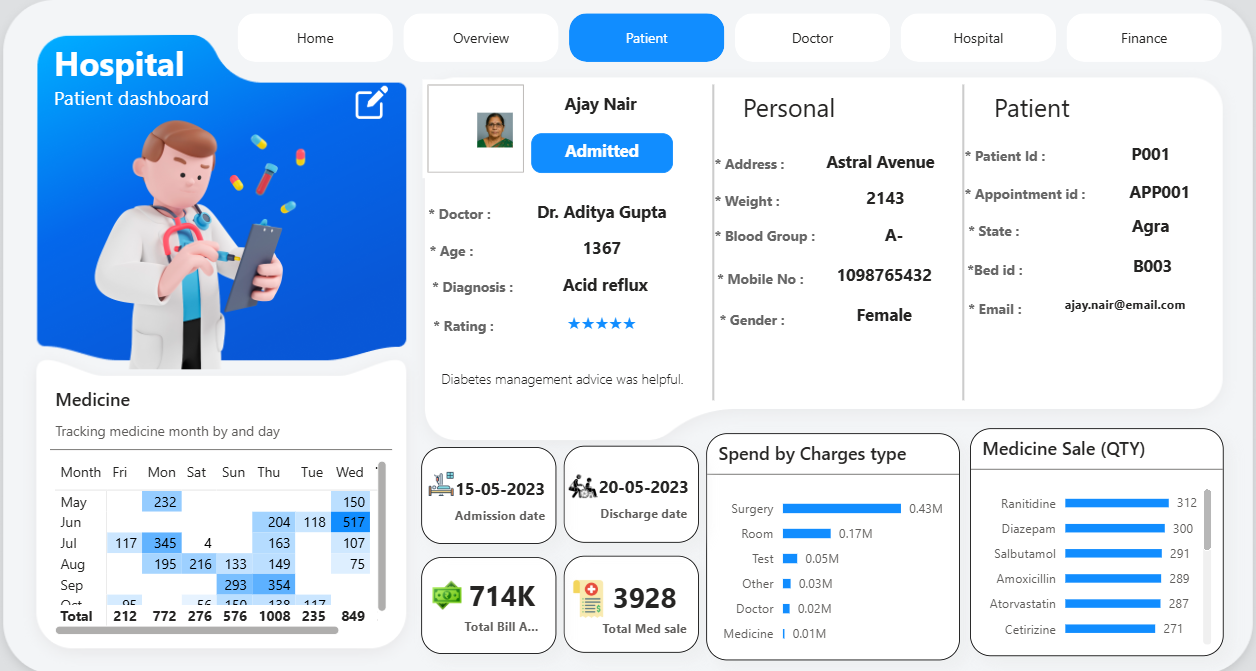

The dashboard page shown, as its layout file describes it:
{"tool":"powerbi","page":{"name":"Patient","canvas":[1280,720],"ordinal":2},"visuals":[{"type":"shape","box":[577.4,567.8,130.4,93.8],"z":0},{"type":"shape","box":[440.9,569.4,130,93.3],"z":1000},{"type":"image","box":[90.7,128.5,279.7,264.6],"z":2000},{"type":"textbox","box":[81.3,66.1,360.9,85],"z":3000},{"type":"image","box":[342,109.6,100.2,41.6],"z":4000},{"type":"pivotTable","title":"Medicine","fields":{"Rows":["Calender.Month"],"Columns":["Calender.Day"],"Values":["Sum(medicine_patient.qty)"]},"box":[81.7,405,330,243.3],"z":5000},{"type":"clusteredBarChart","title":"Spend by Charges type","fields":{"Y":["Sum(Hospital Bills.Value)"],"Category":["Hospital Bills.Attribute"]},"box":[715.8,450.1,245,219.5],"z":6000},{"type":"clusteredBarChart","title":"Medicine Sale (QTY)","fields":{"Y":["Sum(medicine_patient.qty)"],"Category":["Medical Stock.name"]},"box":[970.6,445,245,220],"z":7000},{"type":"card","fields":{"Values":["_Measures.Total_bill_Ammount"]},"box":[475.6,575.8,85.9,81.1],"z":8000},{"type":"card","fields":{"Values":["_Measures.Total_Med_Sale"]},"box":[604.4,571,103.4,93.8],"z":9000},{"type":"shape","box":[577.8,461.9,130,93.3],"z":10000},{"type":"shape","box":[440.9,462.7,130,93.3],"z":11000},{"type":"card","fields":{"Values":["Min(patient.admission_date)"]},"box":[461.3,467.6,111.3,92.3],"z":12000},{"type":"card","fields":{"Values":["Min(patient.discharge_date)"]},"box":[604.4,466,101.8,92.3],"z":13000},{"type":"cardVisual","fields":{"Data":["Min(patient.Img)"]},"box":[441.7,108.3,103.3,95],"z":14000},{"type":"card","fields":{"Values":["Min(patient.name)"]},"box":[545,115,136.7,38.3],"z":15000},{"type":"card","fields":{"Values":["Min(patient.status)"]},"box":[546.7,160,136.7,38.3],"z":16000},{"type":"shape","box":[445,221.7,85,30],"z":17000},{"type":"shape","box":[446.7,258.3,85,30],"z":18000},{"type":"shape","box":[448.3,293.3,85,30],"z":19000},{"type":"card","fields":{"Values":["Min(patient.Doctor.name)"]},"box":[540,223.3,148.3,30],"z":20000},{"type":"card","fields":{"Values":["Sum(patient.age)"]},"box":[540,258.3,148.3,30],"z":21000},{"type":"card","fields":{"Values":["Min(Appointment.diagnosis)"]},"box":[538.3,293.3,160,31.7],"z":22000},{"type":"card","fields":{"Values":["_Measures.Sum of rating star rating"]},"box":[540,330,148.3,30],"z":23000},{"type":"shape","box":[450,330,85,30],"z":24000},{"type":"card","fields":{"Values":["Min(patient.feedback)"]},"box":[447,367.4,260.9,63.6],"z":25000},{"type":"shape","box":[688.3,113.3,66.7,305],"z":26000},{"type":"shape","box":[930,113.3,66.7,305],"z":27000},{"type":"shape","box":[721.3,174.1,85,30],"z":28000},{"type":"shape","box":[721.3,209.5,85,30],"z":29000},{"type":"shape","box":[721.7,245,110,28.3],"z":30000},{"type":"card","fields":{"Values":["Min(patient.address)"]},"box":[810,175,148.3,30],"z":31000},{"type":"card","fields":{"Values":["Sum(patient.weight)"]},"box":[814.7,209.5,148.3,30],"z":32000},{"type":"card","fields":{"Values":["Min(patient.blood_group)"]},"box":[838.3,245,116.7,31.7],"z":33000},{"type":"shape","box":[723.3,285,91.7,30],"z":34000},{"type":"shape","box":[726.7,325,85,30],"z":35000},{"type":"card","fields":{"Values":["Min(patient.phone)"]},"box":[813.3,285,148.3,30],"z":36000},{"type":"card","fields":{"Values":["Min(patient.gender)"]},"box":[813.3,323.3,148.3,30],"z":37000},{"type":"shape","box":[963.3,166.7,85,30],"z":38000},{"type":"shape","box":[963.3,203.3,125,28.3],"z":39000},{"type":"shape","box":[966.7,238.3,85,30],"z":40000},{"type":"card","fields":{"Values":["Min(patient.patient_id)"]},"box":[1073.3,166.7,141.7,31.7],"z":41000},{"type":"card","fields":{"Values":["Min(Appointment.appointment_id)"]},"box":[1088.3,203.3,130,30],"z":42000},{"type":"card","fields":{"Values":["Min(patient.state)"]},"box":[1070,236.7,148.3,31.7],"z":43000},{"type":"shape","box":[965,275,105,33.3],"z":44000},{"type":"shape","box":[966.7,313.3,85,30],"z":45000},{"type":"card","fields":{"Values":["Min(patient.Bed_id)"]},"box":[1092.7,275.2,106.6,31.8],"z":46000},{"type":"card","fields":{"Values":["Min(patient.email)"]},"box":[1026.7,311.7,186.7,33.3],"z":47000},{"type":"textbox","box":[745,115,208.3,51.7],"z":48000},{"type":"textbox","box":[988.3,115,208.3,51.7],"z":49000},{"type":"pageNavigator","box":[262.5,44.5,956,47.7],"z":51000},{"type":"image","box":[577.4,579,47.7,62],"z":52000},{"type":"image","box":[447,575.8,38.2,62],"z":53000},{"type":"image","box":[442.2,467.6,33.4,62],"z":54000},{"type":"image","box":[577.4,462.9,38.2,76.3],"z":55000}]}

Visuals, with their boxes on the page's 1280x720 design canvas (x1, y1, x2, y2). These are canvas units, not pixel positions in the 1256x671 screenshot, which may show the page scaled, cropped or inside an application window:
shape: x1=577 y1=568 x2=708 y2=662
shape: x1=441 y1=569 x2=571 y2=663
image: x1=91 y1=128 x2=370 y2=393
textbox: x1=81 y1=66 x2=442 y2=151
image: x1=342 y1=110 x2=442 y2=151
"Medicine" pivotTable: x1=82 y1=405 x2=412 y2=648
"Spend by Charges type" clusteredBarChart: x1=716 y1=450 x2=961 y2=670
"Medicine Sale (QTY)" clusteredBarChart: x1=971 y1=445 x2=1216 y2=665
card - _Measures.Total_bill_Ammount: x1=476 y1=576 x2=562 y2=657
card - _Measures.Total_Med_Sale: x1=604 y1=571 x2=708 y2=665
shape: x1=578 y1=462 x2=708 y2=555
shape: x1=441 y1=463 x2=571 y2=556
card - Min(patient.admission_date): x1=461 y1=468 x2=573 y2=560
card - Min(patient.discharge_date): x1=604 y1=466 x2=706 y2=558
cardVisual - Min(patient.Img): x1=442 y1=108 x2=545 y2=203
card - Min(patient.name): x1=545 y1=115 x2=682 y2=153
card - Min(patient.status): x1=547 y1=160 x2=683 y2=198
shape: x1=445 y1=222 x2=530 y2=252
shape: x1=447 y1=258 x2=532 y2=288
shape: x1=448 y1=293 x2=533 y2=323
card - Min(patient.Doctor.name): x1=540 y1=223 x2=688 y2=253
card - Sum(patient.age): x1=540 y1=258 x2=688 y2=288
card - Min(Appointment.diagnosis): x1=538 y1=293 x2=698 y2=325
card - _Measures.Sum of rating star rating: x1=540 y1=330 x2=688 y2=360
shape: x1=450 y1=330 x2=535 y2=360
card - Min(patient.feedback): x1=447 y1=367 x2=708 y2=431
shape: x1=688 y1=113 x2=755 y2=418
shape: x1=930 y1=113 x2=997 y2=418
shape: x1=721 y1=174 x2=806 y2=204
shape: x1=721 y1=210 x2=806 y2=240
shape: x1=722 y1=245 x2=832 y2=273
card - Min(patient.address): x1=810 y1=175 x2=958 y2=205
card - Sum(patient.weight): x1=815 y1=210 x2=963 y2=240
card - Min(patient.blood_group): x1=838 y1=245 x2=955 y2=277
shape: x1=723 y1=285 x2=815 y2=315
shape: x1=727 y1=325 x2=812 y2=355
card - Min(patient.phone): x1=813 y1=285 x2=962 y2=315
card - Min(patient.gender): x1=813 y1=323 x2=962 y2=353
shape: x1=963 y1=167 x2=1048 y2=197
shape: x1=963 y1=203 x2=1088 y2=232
shape: x1=967 y1=238 x2=1052 y2=268
card - Min(patient.patient_id): x1=1073 y1=167 x2=1215 y2=198
card - Min(Appointment.appointment_id): x1=1088 y1=203 x2=1218 y2=233
card - Min(patient.state): x1=1070 y1=237 x2=1218 y2=268
shape: x1=965 y1=275 x2=1070 y2=308
shape: x1=967 y1=313 x2=1052 y2=343
card - Min(patient.Bed_id): x1=1093 y1=275 x2=1199 y2=307
card - Min(patient.email): x1=1027 y1=312 x2=1213 y2=345
textbox: x1=745 y1=115 x2=953 y2=167
textbox: x1=988 y1=115 x2=1197 y2=167
pageNavigator: x1=262 y1=44 x2=1218 y2=92
image: x1=577 y1=579 x2=625 y2=641
image: x1=447 y1=576 x2=485 y2=638
image: x1=442 y1=468 x2=476 y2=530
image: x1=577 y1=463 x2=616 y2=539
